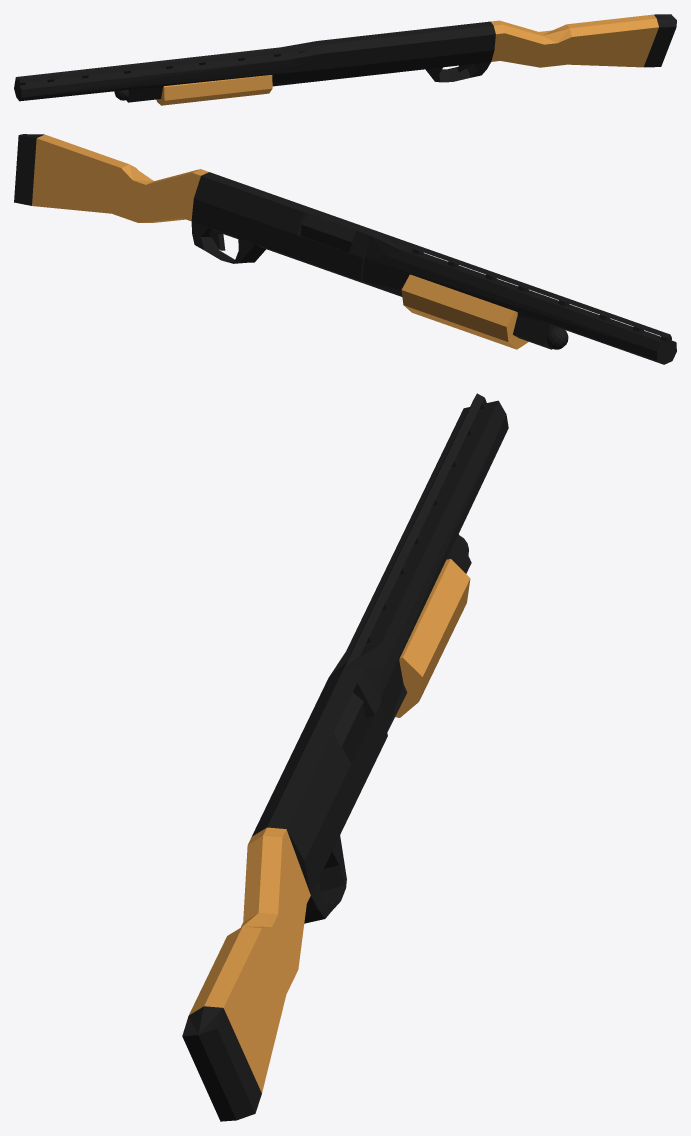
Rendered from Shotgun1.fbx.
The picture shows the model from 3 angles, top to bottom: view 1: azimuth 30°, elevation 25°; view 2: azimuth 150°, elevation 25°; view 3: azimuth 270°, elevation 25°; orthographic projection. The views are drawn at different scales.
Parts seen in each view (by area): view 1: group_1191862861; view 2: group_1191862861; view 3: group_1191862861.
Boxes of the visible parts, x1,y1,x2,y2 form: group_1191862861: [14, 14, 676, 105]; group_1191862861: [14, 134, 676, 364]; group_1191862861: [182, 393, 508, 1121].
Bounding box in the file's own units: 18.4 × 2.45 × 4.41.
